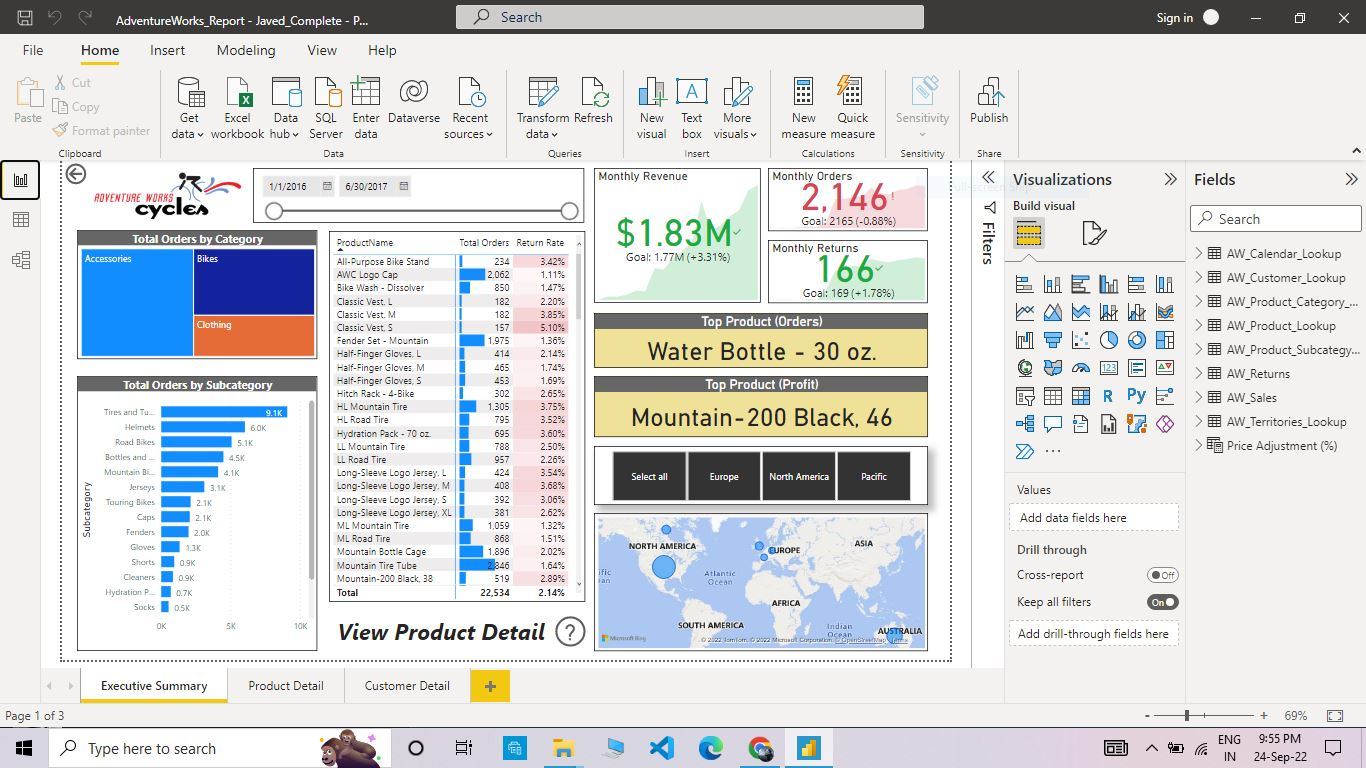

Layout of this report page (visuals, bound fields, positions):
{"tool":"powerbi","page":{"name":"Executive Summary","canvas":[1280,720],"ordinal":0},"visuals":[{"type":"image","box":[41.4,0,224.3,102.9],"z":0},{"type":"clusteredBarChart","title":"Total Orders by Subcategory","fields":{"Y":["AW_Sales.Total Orders"],"Category":["AW_Product_Subcategy_Lookup.SubcategoryName"]},"box":[21.6,311,345.6,396],"z":1000},{"type":"treemap","title":"Total Orders by Category","fields":{"Group":["AW_Product_Category_Lookup.CategoryName","AW_Product_Subcategy_Lookup.SubcategoryName"],"Values":["AW_Sales.Total Orders"]},"box":[21.4,101.4,345.7,185.7],"z":2000},{"type":"pivotTable","fields":{"Values":["AW_Sales.Total Orders","AW_Returns.Return Rate"],"Rows":["AW_Product_Category_Lookup.CategoryName","AW_Product_Subcategy_Lookup.SubcategoryName","AW_Product_Lookup.ProductName"]},"box":[384.3,102.9,368.6,534.3],"z":3000},{"type":"slicer","fields":{"Values":["AW_Calendar_Lookup.Date"]},"box":[275.7,11.4,477.1,78.6],"z":4000},{"type":"kpi","title":"Monthly Revenue","fields":{"Indicator":["AW_Sales.Total Revenue"],"TrendLine":["AW_Calendar_Lookup.Start of Month"],"Goal":["AW_Sales.Prev Month Revenue"]},"box":[766.1,11.5,240.5,194.4],"z":5000},{"type":"kpi","title":"Monthly Orders","fields":{"TrendLine":["AW_Calendar_Lookup.Start of Month"],"Indicator":["AW_Sales.Total Orders"],"Goal":["AW_Sales.Prev Month Orders"]},"box":[1016.6,11.5,230.4,90.7],"z":6000},{"type":"kpi","title":"Monthly Returns","fields":{"TrendLine":["AW_Calendar_Lookup.Start of Month"],"Indicator":["AW_Returns.Total Returns"],"Goal":["AW_Returns.Prev Month Returns"]},"box":[1016.6,115.2,230.4,90.7],"z":7000},{"type":"card","title":"Top Product (Orders)","fields":{"Values":["AW_Product_Lookup.ProductName"]},"box":[766.1,220.3,481,79.2],"z":8000},{"type":"card","title":"Top Product (Profit)","fields":{"Values":["AW_Product_Lookup.ProductName"]},"box":[766.1,311,481,87.8],"z":9000},{"type":"map","fields":{"Category":["AW_Territories_Lookup.Country"],"Size":["AW_Sales.Total Orders"]},"box":[766.1,508.3,481,198.7],"z":10000},{"type":"slicer","fields":{"Values":["AW_Territories_Lookup.Continent"]},"box":[766.1,411.8,481,85],"z":11000},{"type":"actionButton","box":[0,0,100,40],"z":12000},{"type":"textbox","box":[384.3,651.4,322.9,55.7],"z":13000},{"type":"actionButton","box":[704.3,651.4,61.4,55.7],"z":14000}]}

Visuals, with their boxes on the page's 1280x720 design canvas (x1, y1, x2, y2). These are canvas units, not pixel positions in the 1366x768 screenshot, which may show the page scaled, cropped or inside an application window:
image: pyautogui.locateOnScreen(41, 0, 266, 103)
"Total Orders by Subcategory" clusteredBarChart: pyautogui.locateOnScreen(22, 311, 367, 707)
"Total Orders by Category" treemap: pyautogui.locateOnScreen(21, 101, 367, 287)
pivotTable - AW_Sales.Total Orders x AW_Returns.Return Rate: pyautogui.locateOnScreen(384, 103, 753, 637)
slicer - AW_Calendar_Lookup.Date: pyautogui.locateOnScreen(276, 11, 753, 90)
"Monthly Revenue" kpi: pyautogui.locateOnScreen(766, 12, 1007, 206)
"Monthly Orders" kpi: pyautogui.locateOnScreen(1017, 12, 1247, 102)
"Monthly Returns" kpi: pyautogui.locateOnScreen(1017, 115, 1247, 206)
"Top Product (Orders)" card: pyautogui.locateOnScreen(766, 220, 1247, 300)
"Top Product (Profit)" card: pyautogui.locateOnScreen(766, 311, 1247, 399)
map - AW_Territories_Lookup.Country x AW_Sales.Total Orders: pyautogui.locateOnScreen(766, 508, 1247, 707)
slicer - AW_Territories_Lookup.Continent: pyautogui.locateOnScreen(766, 412, 1247, 497)
actionButton: pyautogui.locateOnScreen(0, 0, 100, 40)
textbox: pyautogui.locateOnScreen(384, 651, 707, 707)
actionButton: pyautogui.locateOnScreen(704, 651, 766, 707)
